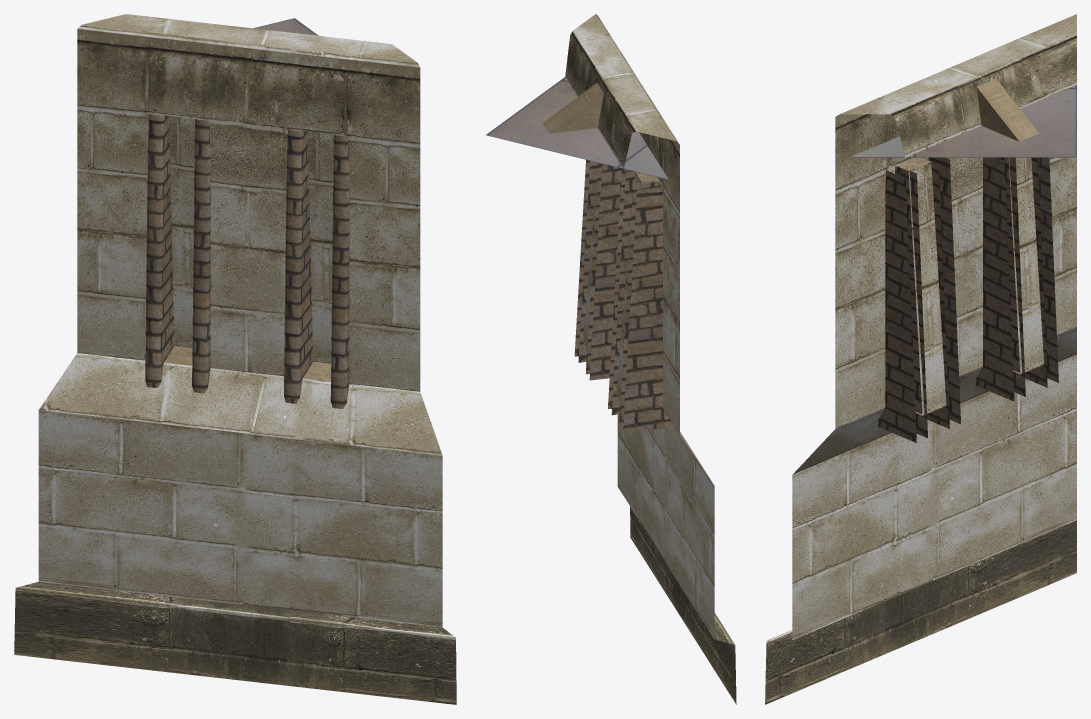
Rendered from castle-wall-45d-w-deco-1.fbx.
The picture shows the model from 3 angles, left to right: view 1: azimuth 30°, elevation 25°; view 2: azimuth 150°, elevation 25°; view 3: azimuth 270°, elevation 25°; orthographic projection. The views are drawn at different scales.
Parts seen in each view (by area): view 1: castle-wall-45d-w-deco-1; view 2: castle-wall-45d-w-deco-1; view 3: castle-wall-45d-w-deco-1.
Part boxes in pixels (x1,y1,x2,y2): castle-wall-45d-w-deco-1: (14, 14, 456, 704); castle-wall-45d-w-deco-1: (486, 14, 736, 704); castle-wall-45d-w-deco-1: (765, 14, 1076, 704).
Size of the model in its own units: 191 by 400 by 191.
